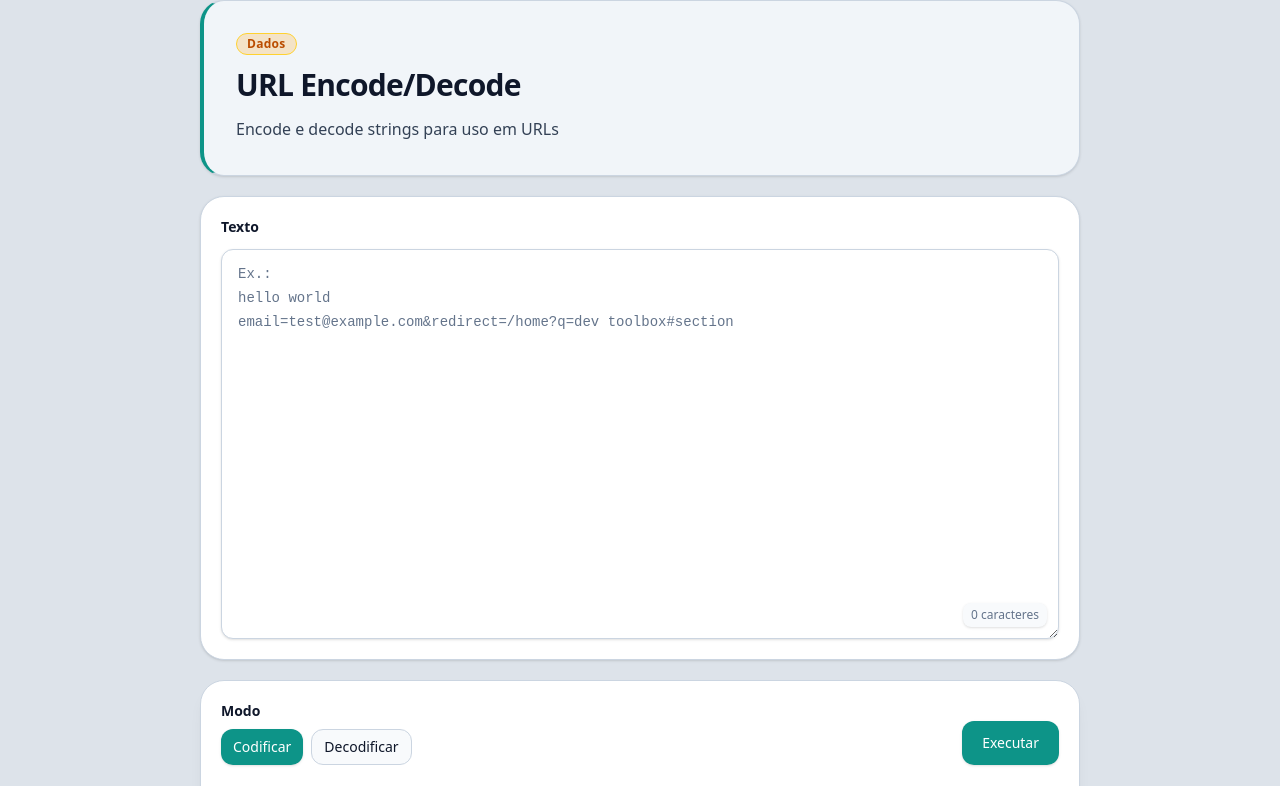
Test: UrlCodecPage › mostra erro quando o texto codificado informado e invalido
Click the button "Decodificar".
click(361, 747)  # box [311, 729, 412, 765]
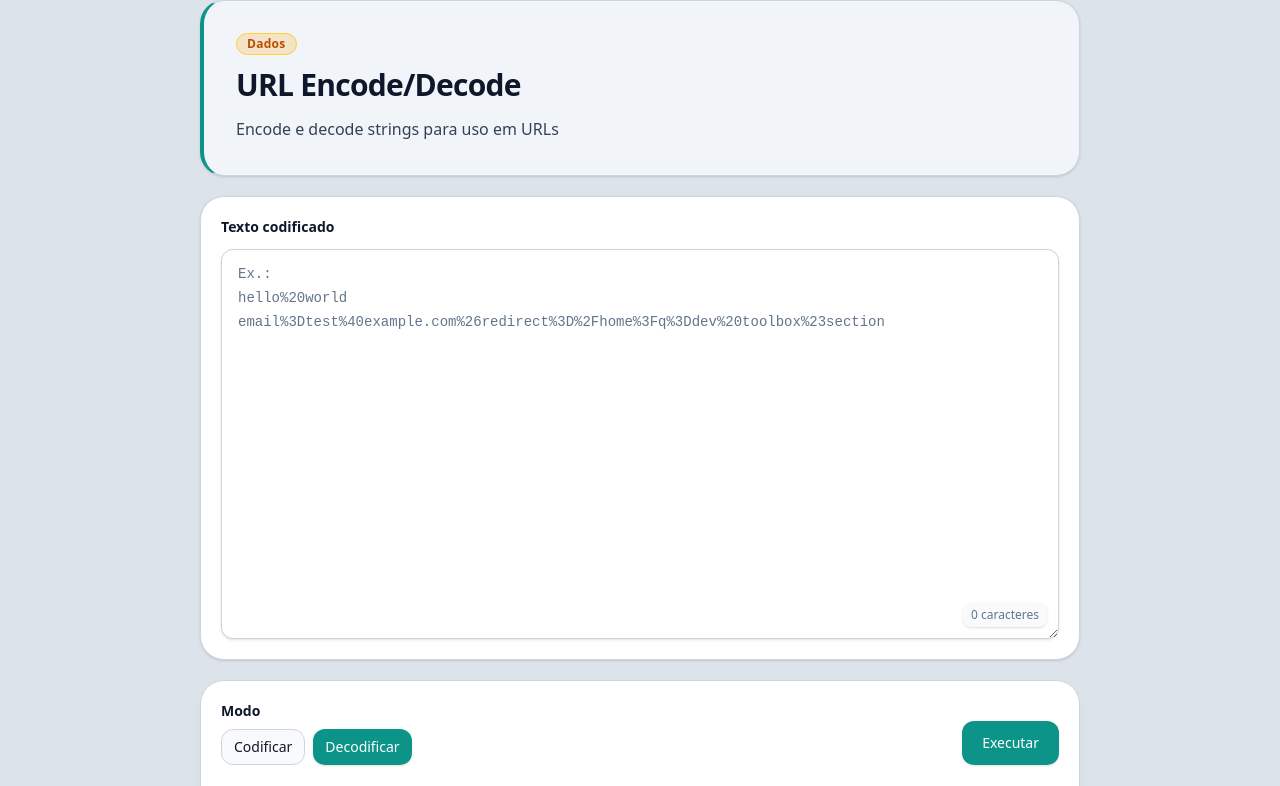
Replace the text in the text box labelled "Texto codificado" with "%E0%A4%A" at point(640, 444), box [221, 249, 1059, 639]
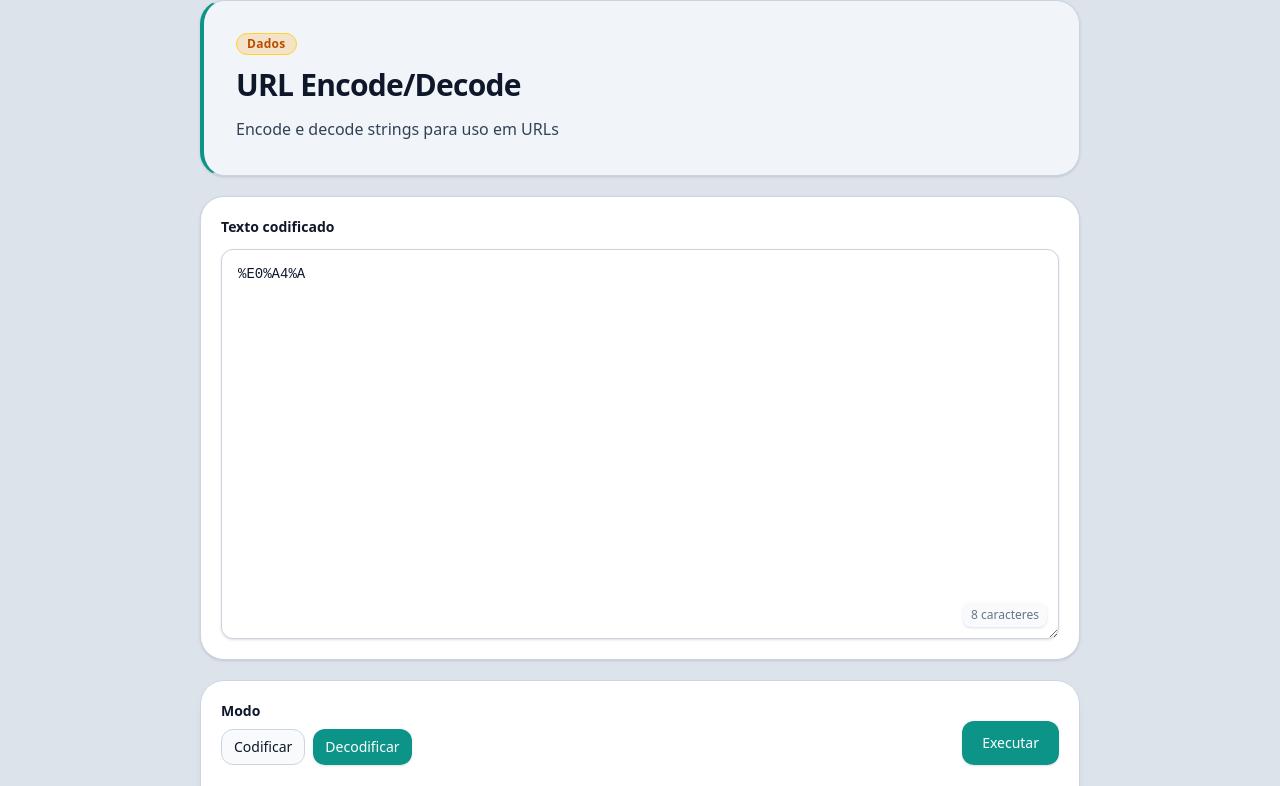
Click the button "Executar".
click(1011, 743)  # box [962, 721, 1059, 765]
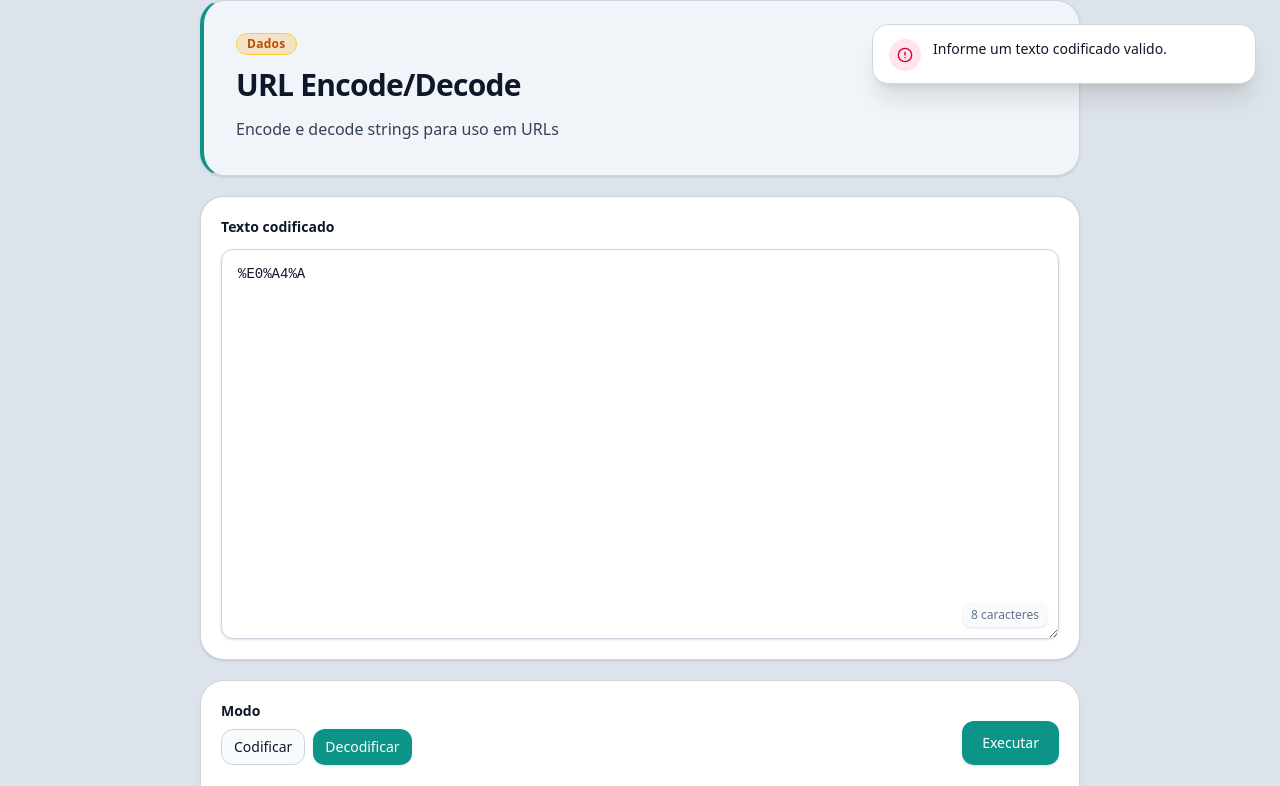
Result: the text "Informe um texto codificado valido." is shown at [933, 37, 1167, 61]
